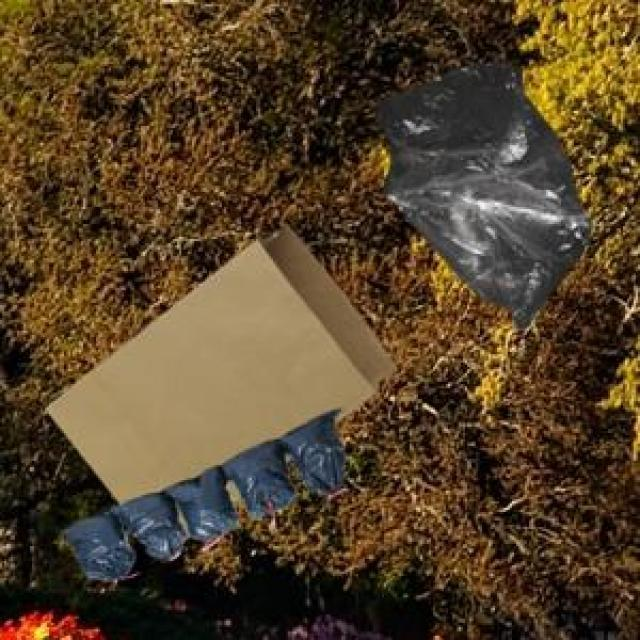miscellaneous trash: (58, 406, 341, 578)
paper: (43, 222, 393, 533)
